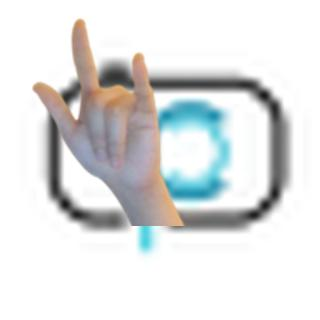ILY: (30, 16, 168, 192)
